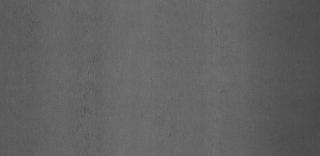silk spot: (71, 48, 109, 142)
